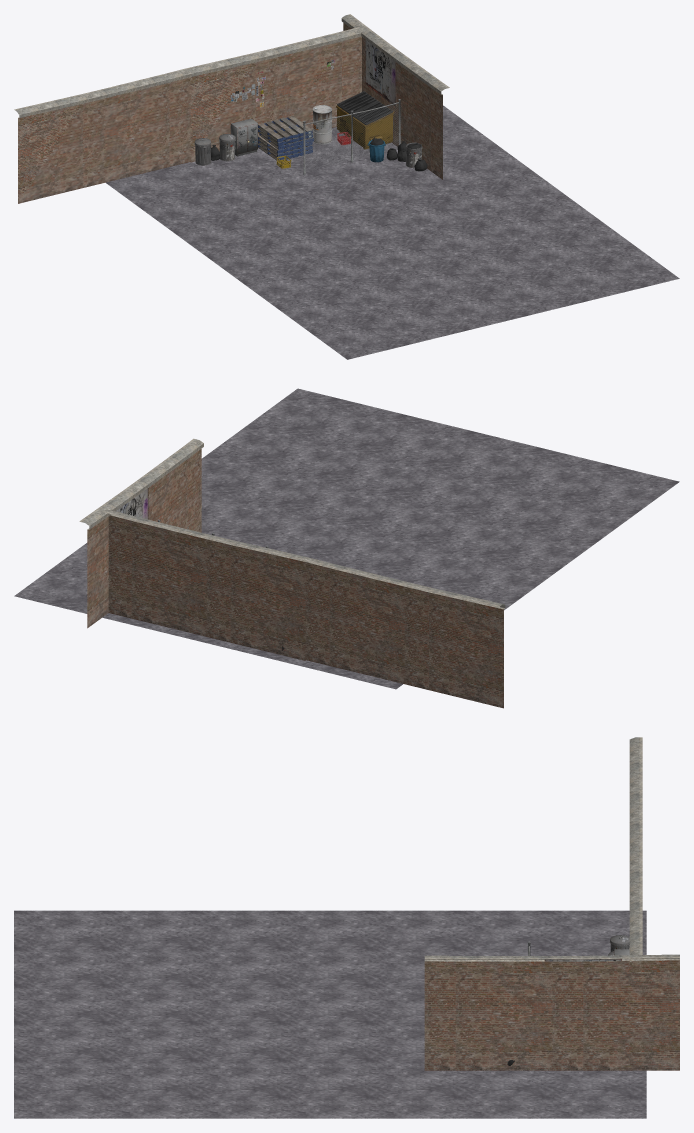
The model's file is alley_game.glb.
3 renders of one model, top to bottom at view 1: azimuth 30°, elevation 25°; view 2: azimuth 150°, elevation 25°; view 3: azimuth 270°, elevation 25°, orthographic. The views are drawn at different scales.
Parts seen in each view (by area): view 1: StreetFloor, sabWall01.001, sabWall01, sabWall01.002, sabDumpster01, sabWireFence01_Mesh, sabiPalletStack, sabBillboard01, sabPowerbox01, sabDrum01, sabWireFence01; view 2: StreetFloor, sabWall01.001, sabWall01, sabWall01.002, sabBillboard01; view 3: StreetFloor, sabWall01.002, sabWall01.001, sabWall01.
Boxes of the visible parts, x1,y1,x2,y2 form: StreetFloor: (106, 105, 679, 359); sabWall01.001: (14, 68, 191, 203); sabWall01: (187, 27, 361, 162); sabWall01.002: (341, 14, 449, 179); sabDumpster01: (336, 91, 394, 149); sabWireFence01_Mesh: (303, 104, 398, 171); sabiPalletStack: (258, 115, 313, 160); sabBillboard01: (365, 40, 396, 106); sabPowerbox01: (230, 118, 257, 156); sabDrum01: (312, 105, 332, 144); sabWireFence01: (303, 99, 400, 174); StreetFloor: (14, 388, 679, 689); sabWall01.001: (301, 557, 505, 708); sabWall01: (103, 509, 306, 660); sabWall01.002: (79, 438, 203, 628); sabBillboard01: (116, 488, 148, 519); StreetFloor: (14, 910, 646, 1118); sabWall01.002: (424, 954, 679, 1070); sabWall01.001: (629, 737, 642, 847); sabWall01: (629, 846, 642, 961).
Bounding box in the file's own units: 17.71 × 3.72 × 18.95.
23 materials, 23 textured.
